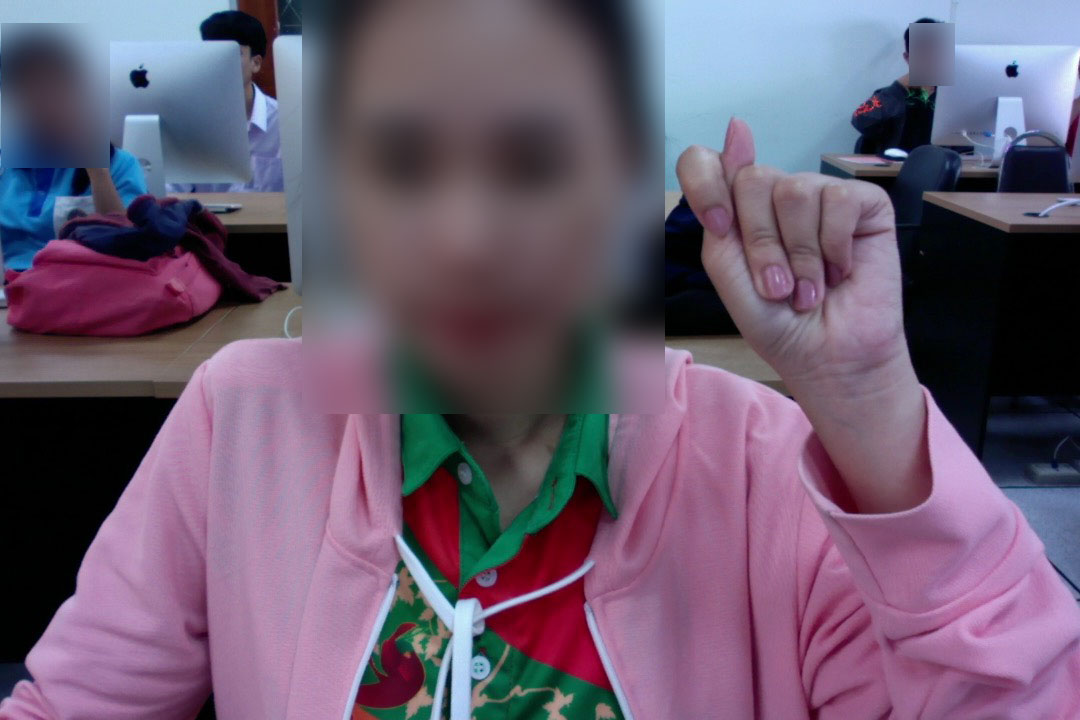tor: (670, 115, 917, 392)
